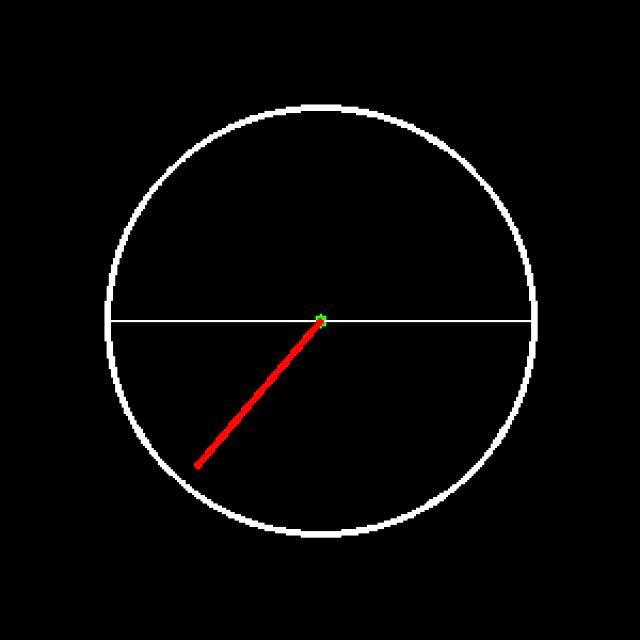Needle_Tip: (173, 425, 234, 500)
Needle_base: (288, 281, 362, 367)
